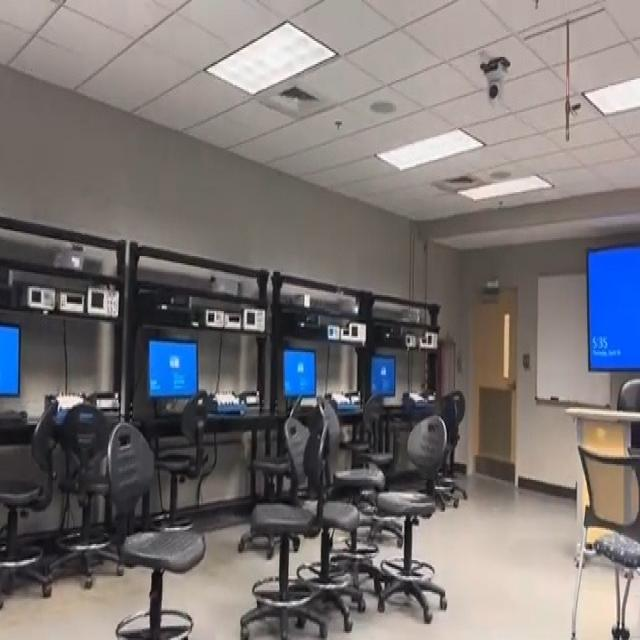drone: (327, 279, 349, 304)
